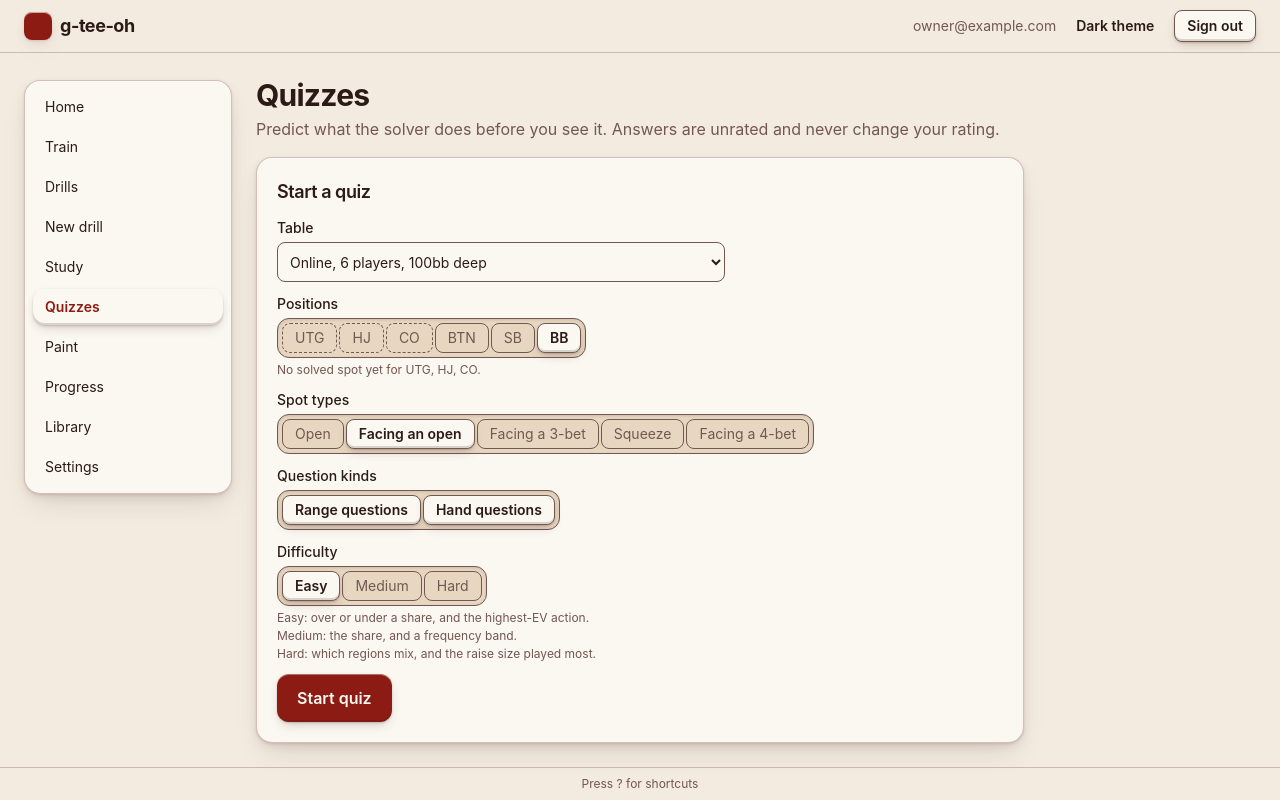
Test: R3.16 the required reason (O-412) › R3.16 a labelled textarea with the field class, a 1,000 limit and a live count
Click the button "Start quiz" at (334, 698), box [277,674,392,722]
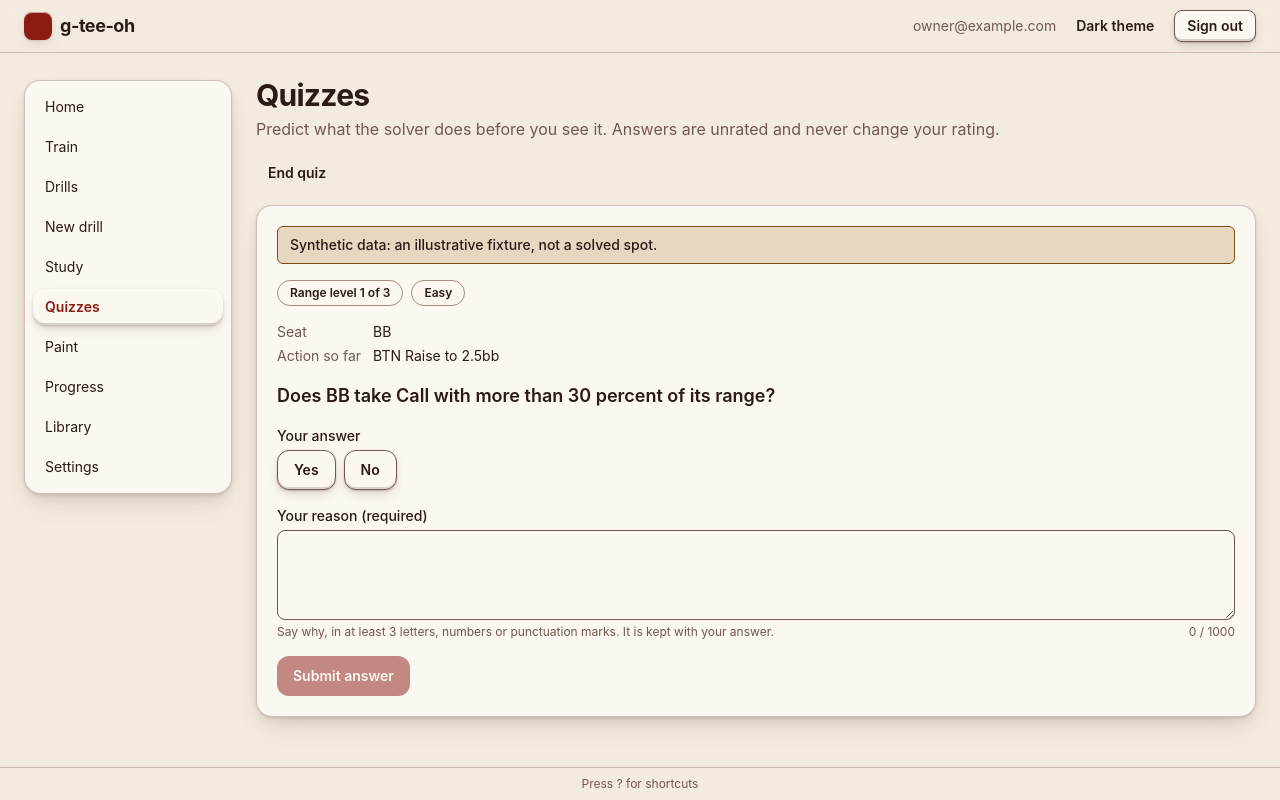
Expected: the heading "Does BB take Call with more than 30 percent of its range?" is shown, [277,385,775,406]
Expected: the text "0 / 1000" is shown, [1189,624,1235,640]
Type "abcd" into the text box labelled "Your reason (required)" at (756, 575), box [277,530,1235,620]
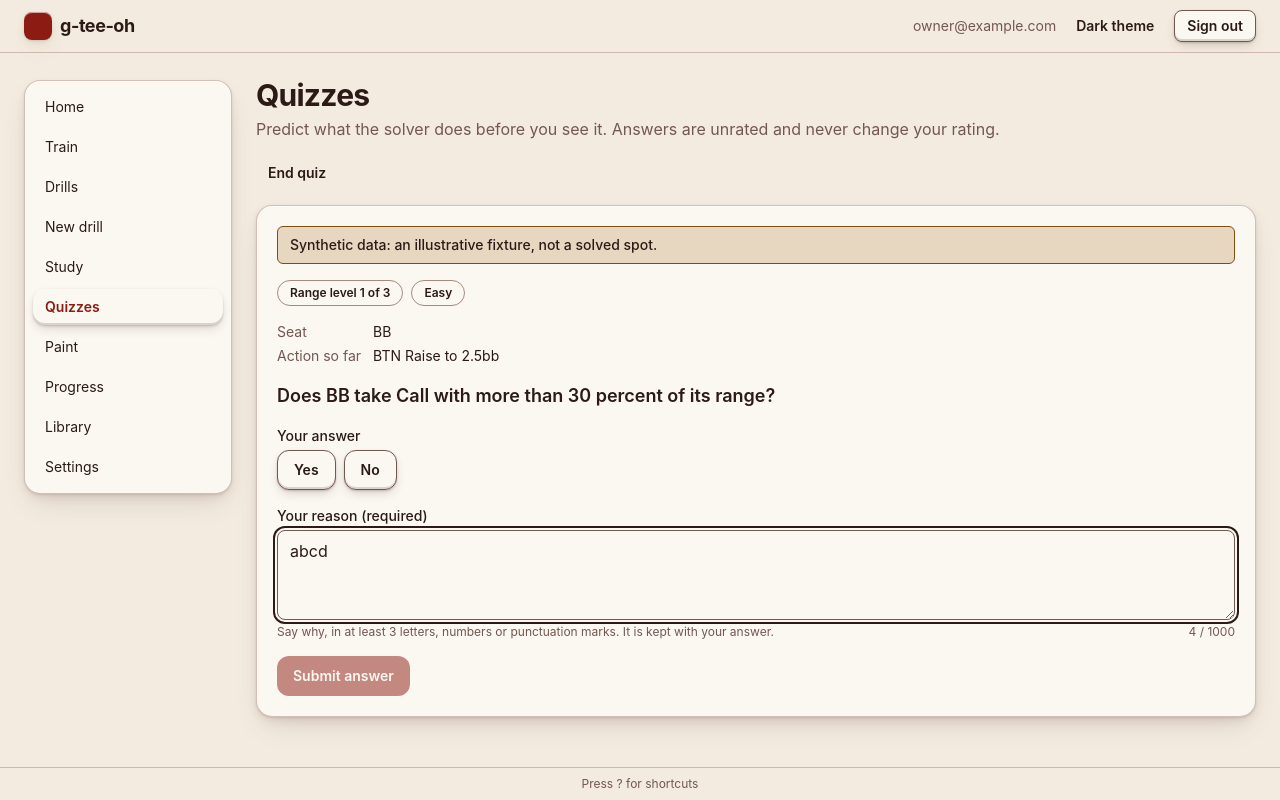
Expected: the text "4 / 1000" is shown, [1189,624,1235,640]
